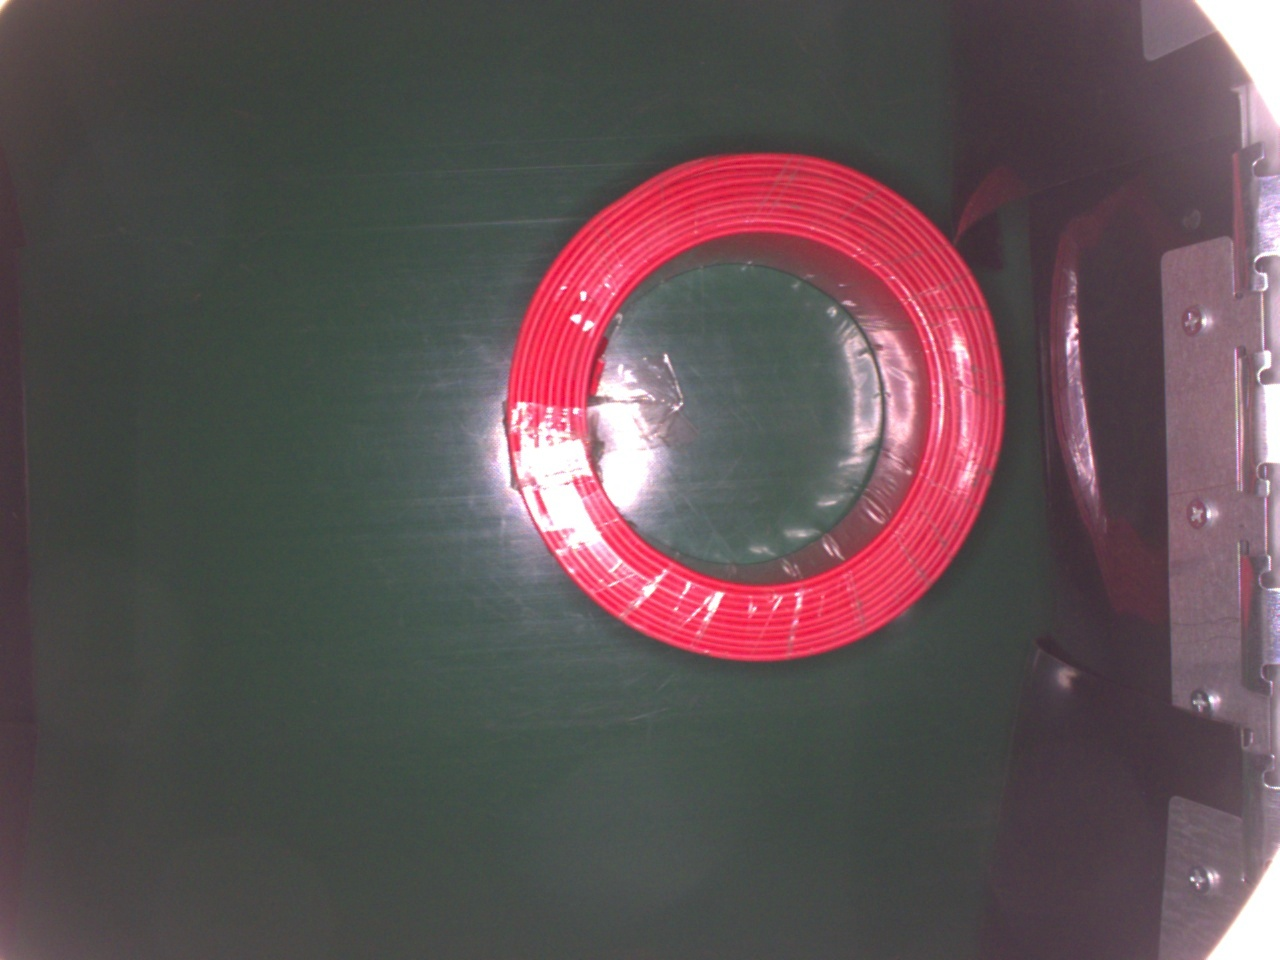red: (499, 149, 1005, 661)
